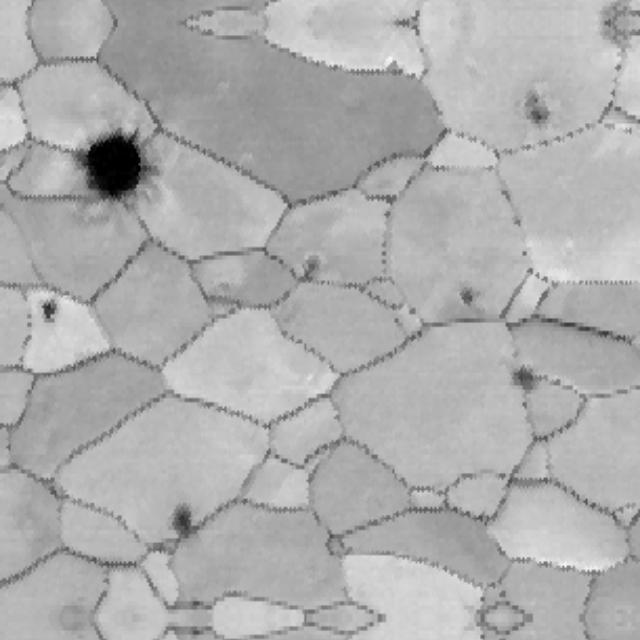good_void: (78, 119, 152, 208), (489, 355, 541, 397), (292, 243, 324, 292), (515, 91, 553, 130), (165, 495, 198, 539), (36, 295, 61, 326), (452, 285, 483, 308), (407, 303, 421, 318)
